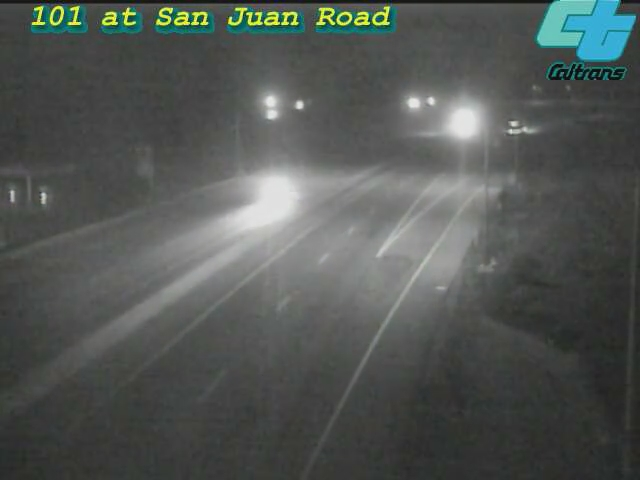vehicle: (230, 153, 310, 233), (439, 97, 489, 147), (494, 102, 544, 152)
